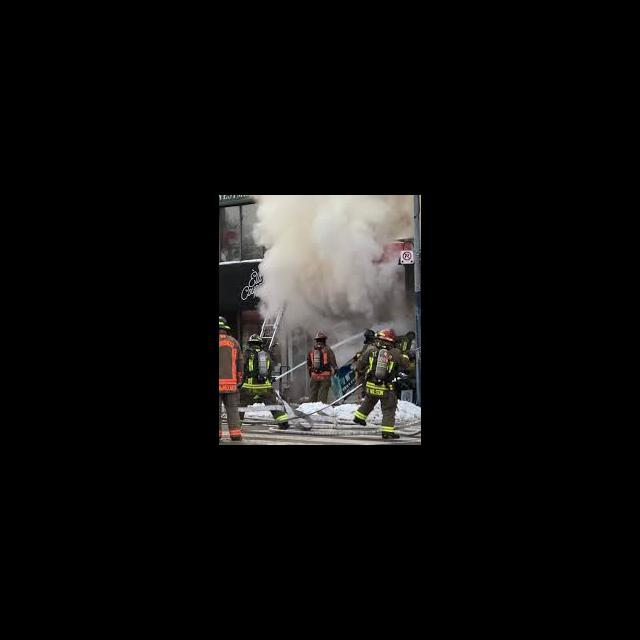Smoke: (250, 195, 414, 329)
